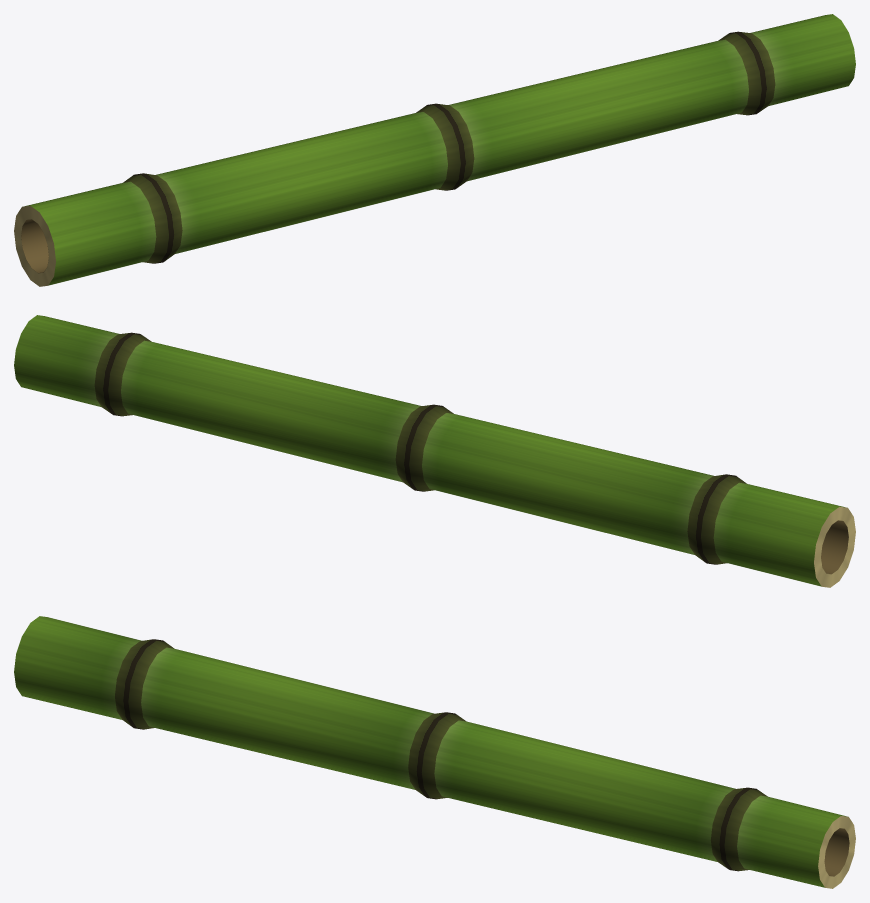
Rendered from bamboo_medium_unity.fbx.
3 renders of one model, top to bottom at view 1: azimuth 30°, elevation 25°; view 2: azimuth 150°, elevation 25°; view 3: azimuth 330°, elevation 25°, orthographic.
Visible parts, largest first — view 1: Bamboo_Medium; view 2: Bamboo_Medium; view 3: Bamboo_Medium.
Part boxes in pixels (x1,y1,x2,y2): Bamboo_Medium: (14,14,855,286); Bamboo_Medium: (14,315,855,587); Bamboo_Medium: (14,616,855,888).
Bounding box in the file's own units: 0.55 × 0.0543 × 0.0557.
Materials: 1 (1 with a texture image).
